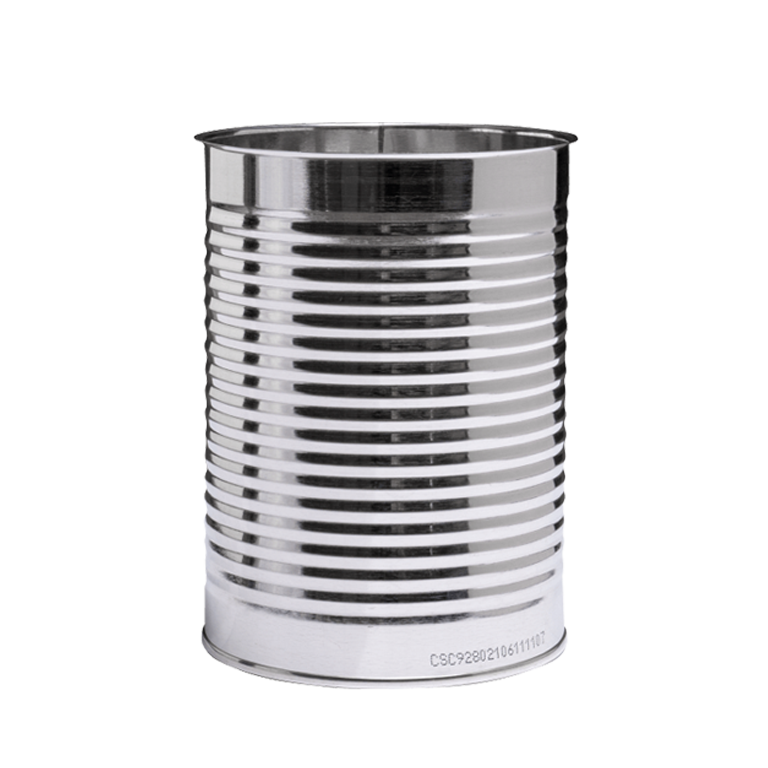can: (183, 115, 599, 687)
